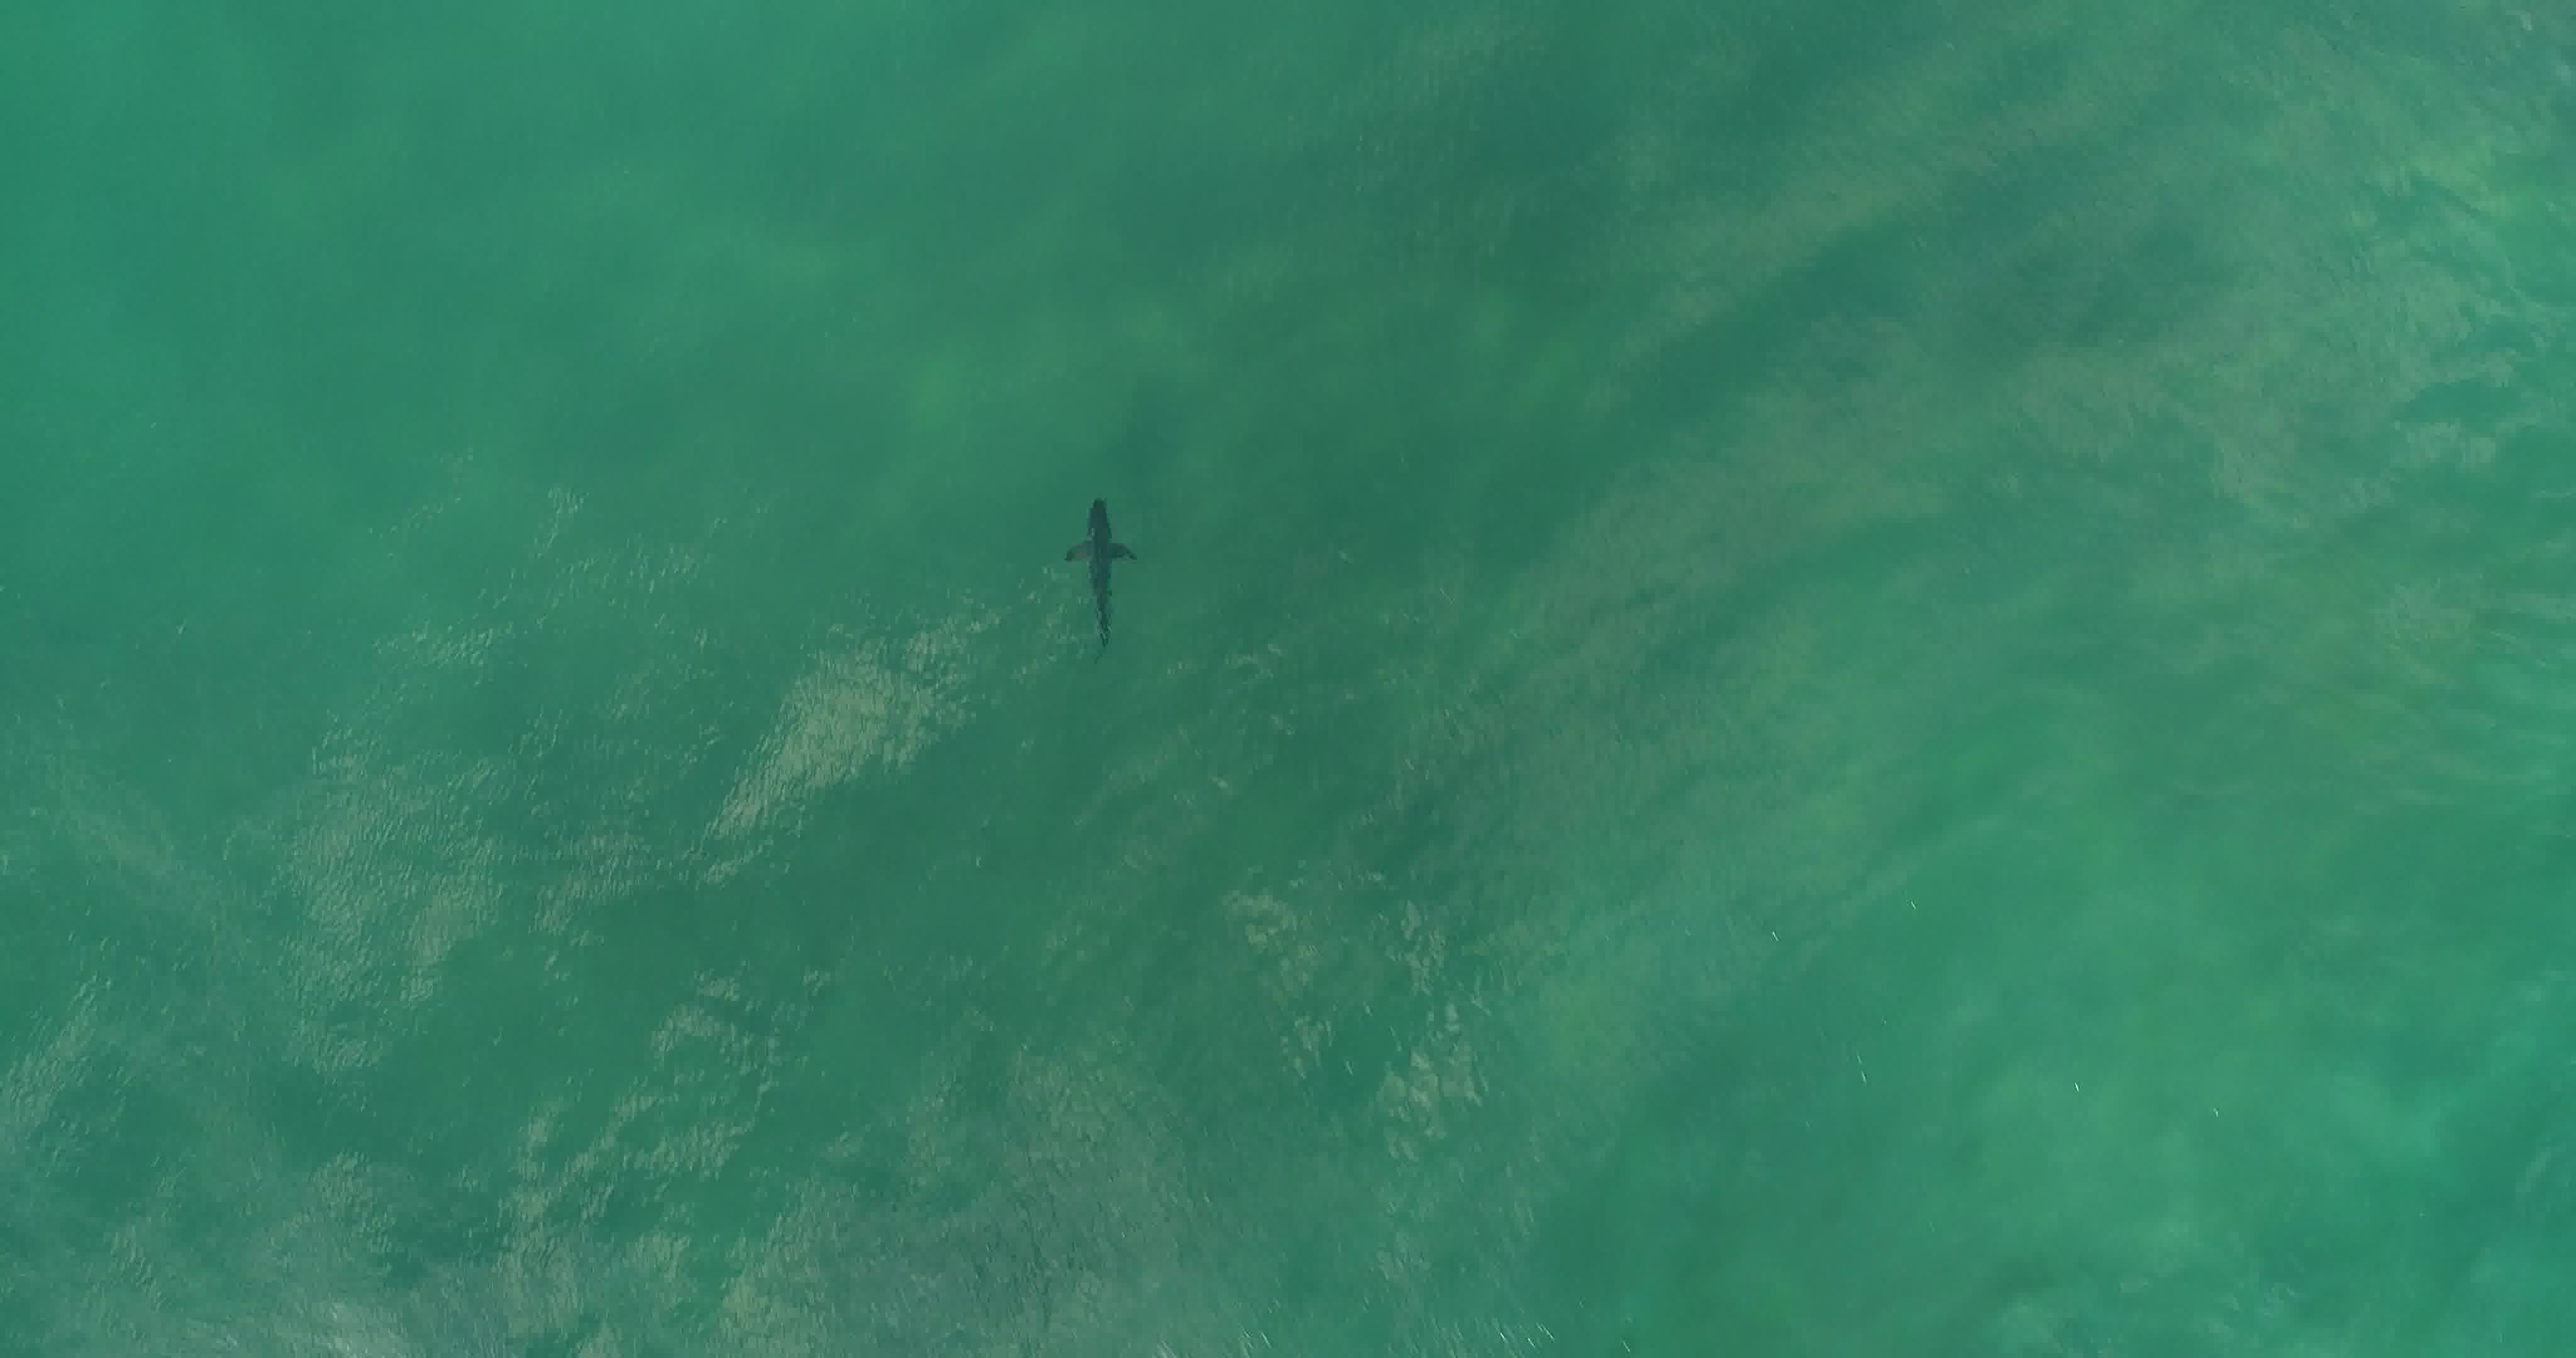shark: (1058, 494, 1141, 661)
